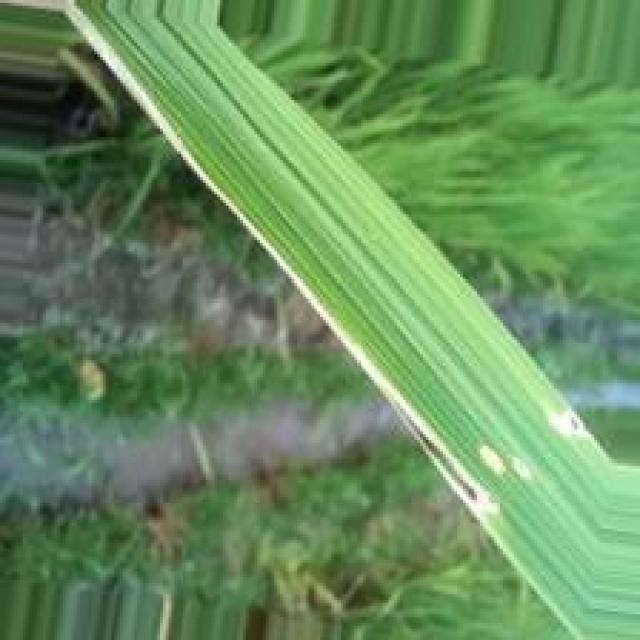Rice_Hispa: (0, 0, 494, 515), (542, 398, 589, 441), (483, 447, 531, 479)
